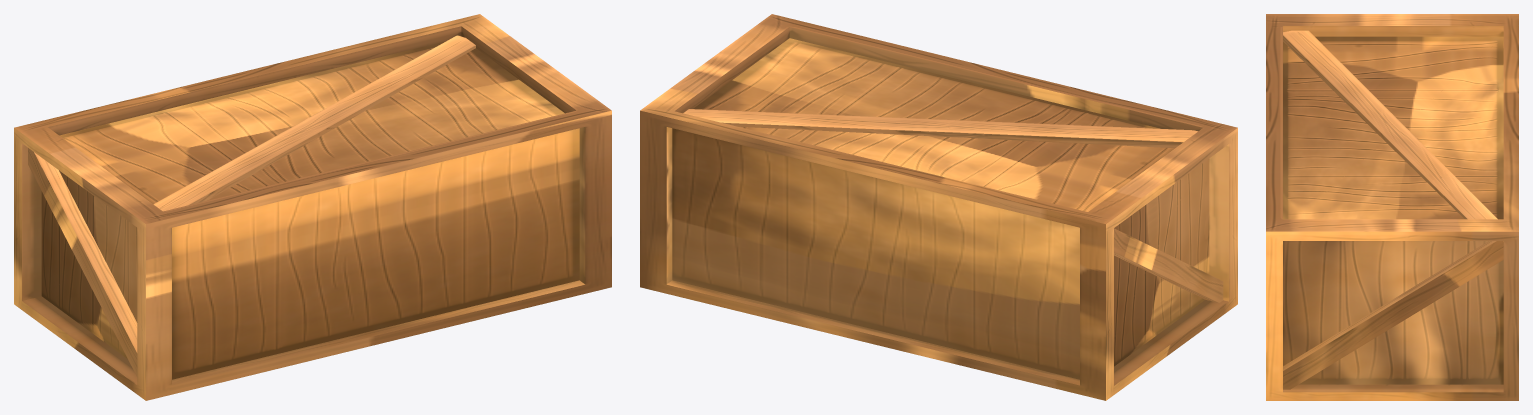
File: SM_Stylized_Box_var1.fbx
3 renders of one model, left to right at view 1: azimuth 30°, elevation 25°; view 2: azimuth 150°, elevation 25°; view 3: azimuth 270°, elevation 25°, orthographic. The views are drawn at different scales.
Visible parts, largest first — view 1: SM_Stylized_Box_var1_LOD0; view 2: SM_Stylized_Box_var1_LOD0; view 3: SM_Stylized_Box_var1_LOD0.
Part boxes in pixels (x1,y1,x2,y2): SM_Stylized_Box_var1_LOD0: [14, 14, 611, 400]; SM_Stylized_Box_var1_LOD0: [640, 14, 1237, 400]; SM_Stylized_Box_var1_LOD0: [1266, 14, 1518, 400].
Bounding box in the file's own units: 139 × 68.33 × 50.49.
